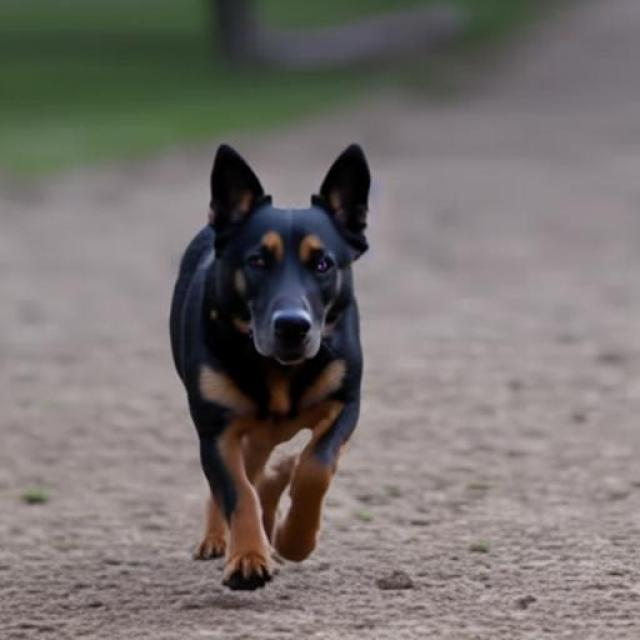Dog: (170, 142, 372, 590)
